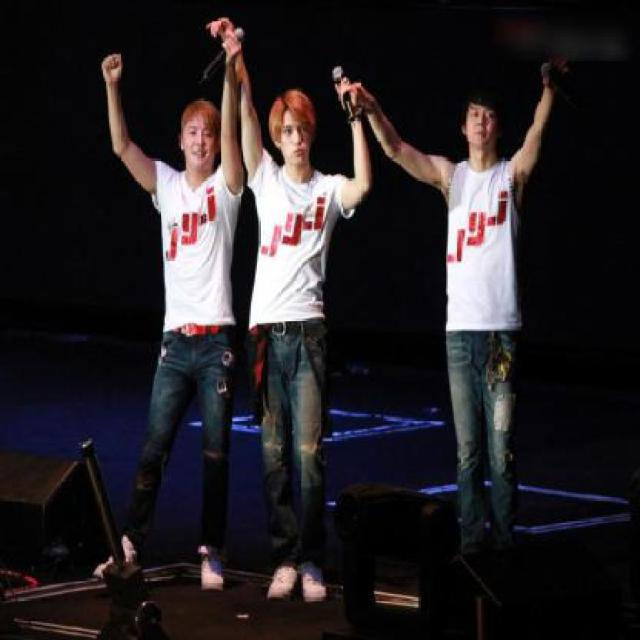Person: (343, 36, 582, 582), (72, 0, 242, 614), (228, 19, 367, 613)
